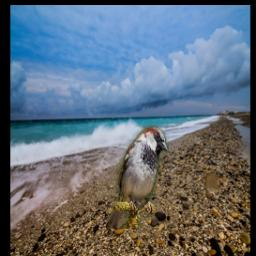Sparrow: (105, 126, 168, 230)
